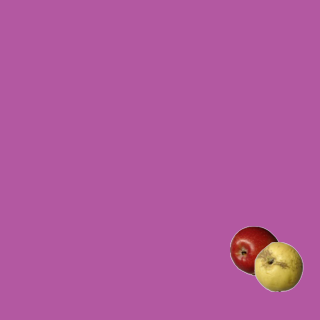Apple Braeburn: (229, 225, 279, 275)
Apple Golden 1: (253, 241, 303, 291)
